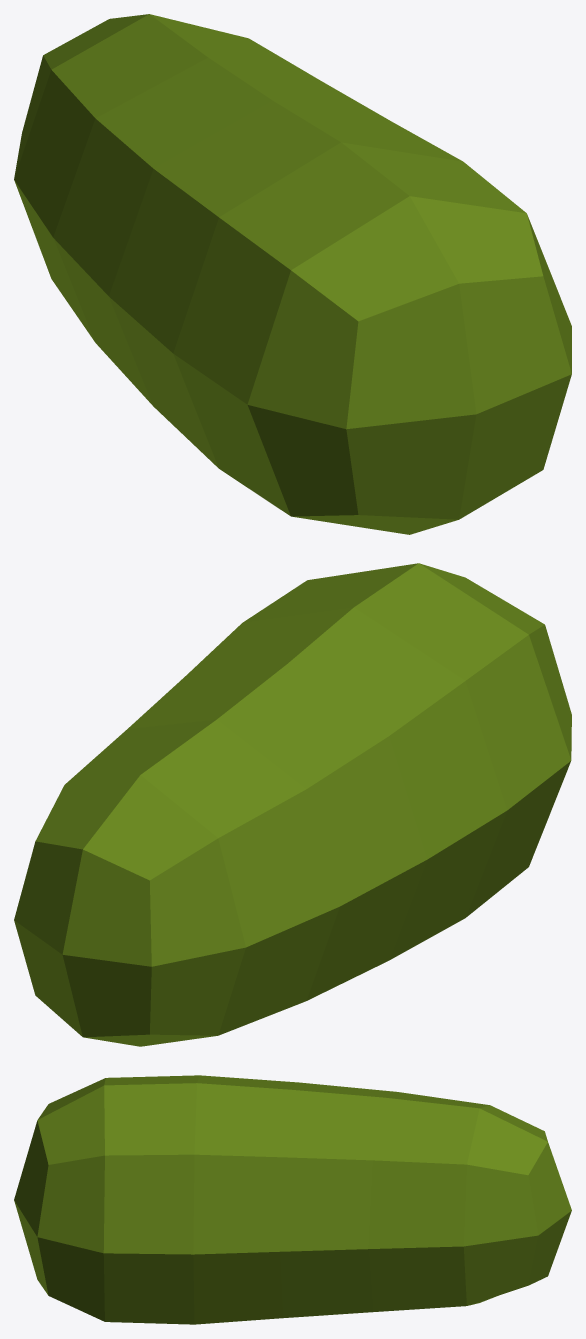
Rendered from Kamias.fbx.
3 renders of one model, top to bottom at view 1: azimuth 30°, elevation 25°; view 2: azimuth 150°, elevation 25°; view 3: azimuth 270°, elevation 25°, orthographic. The views are drawn at different scales.
Visible parts, largest first — view 1: Kamias; view 2: Kamias; view 3: Kamias.
Part boxes in pixels (x1,y1,x2,y2): Kamias: (14, 14, 571, 534); Kamias: (14, 563, 571, 1046); Kamias: (14, 1075, 571, 1324).
Bounding box in the file's own units: 14.51 × 14.5 × 31.38.
